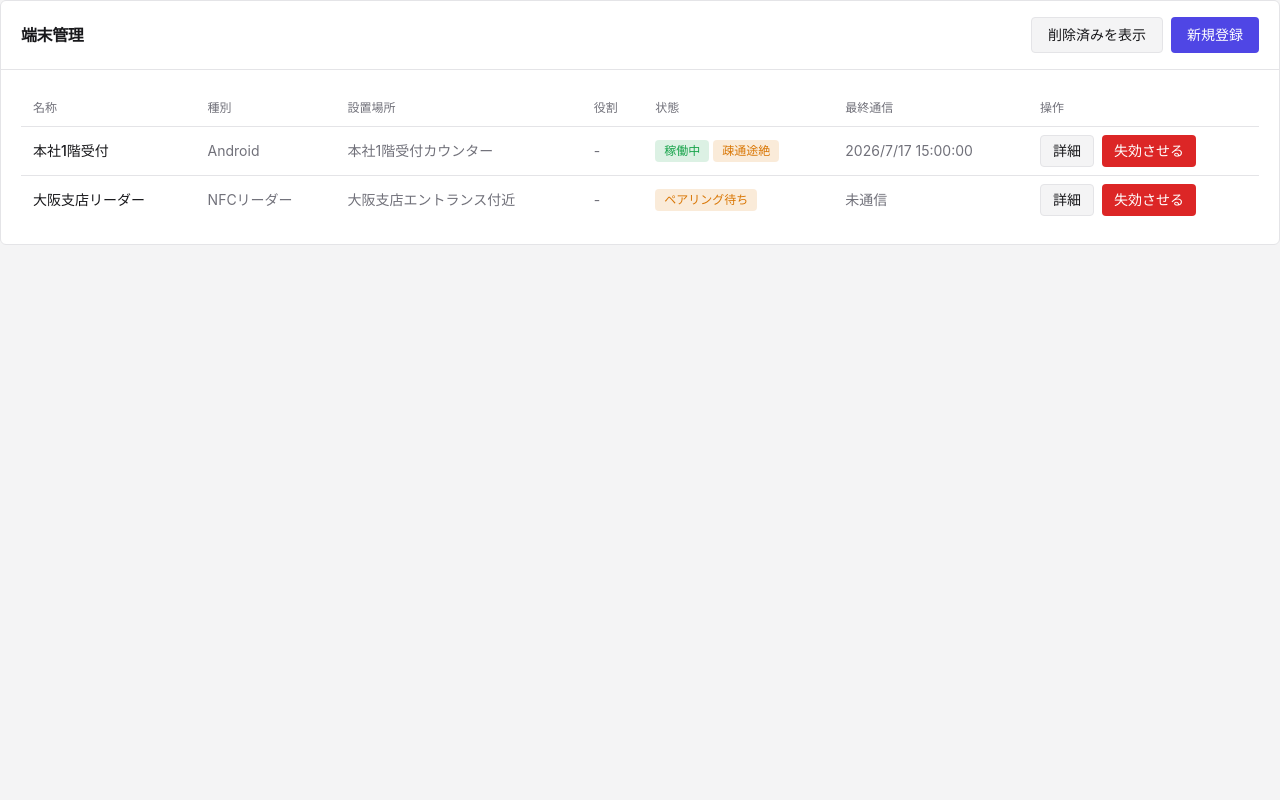
Test: DeviceListPage › opens the device detail modal when a row is clicked
Click the text "本社1階受付". click: (108, 150)
box: top-left (21, 126), bottom-right (196, 175)
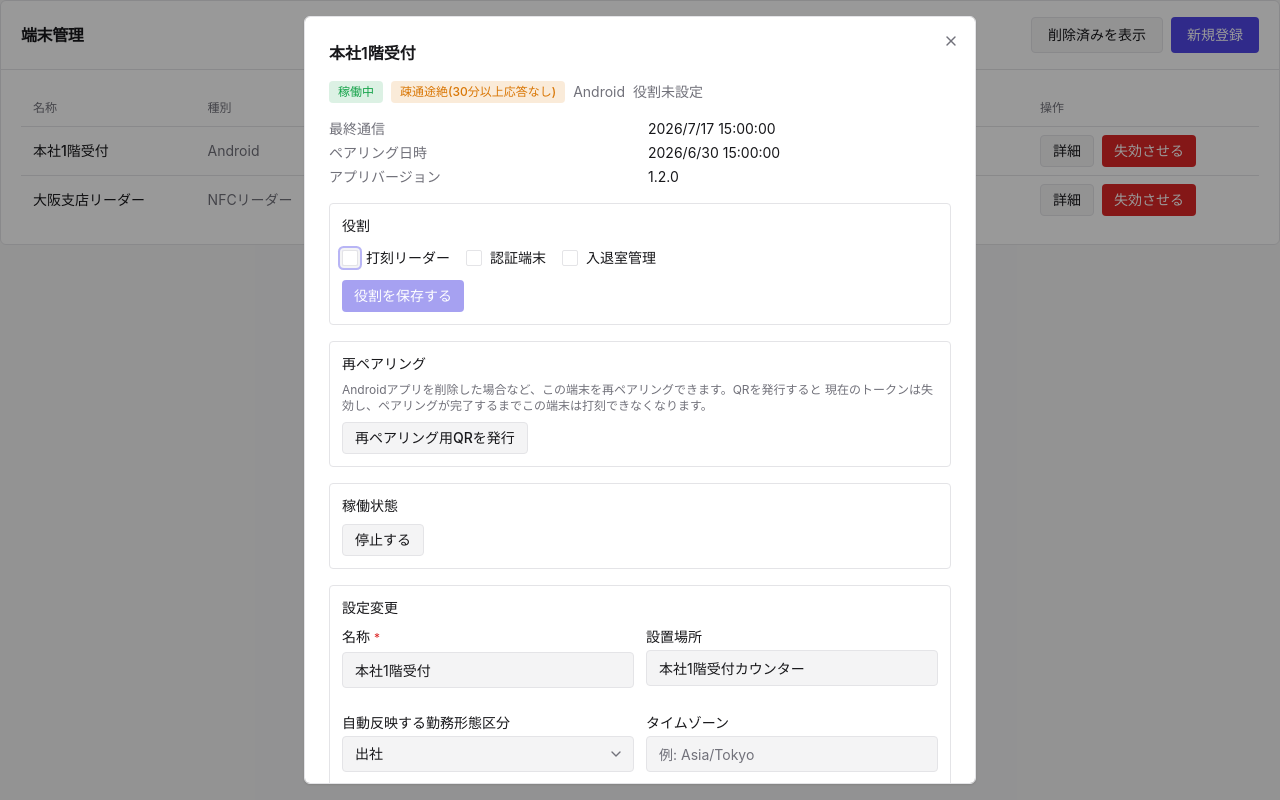
Check: the heading "本社1階受付" is shown, box top-left (329, 43), bottom-right (416, 63)
